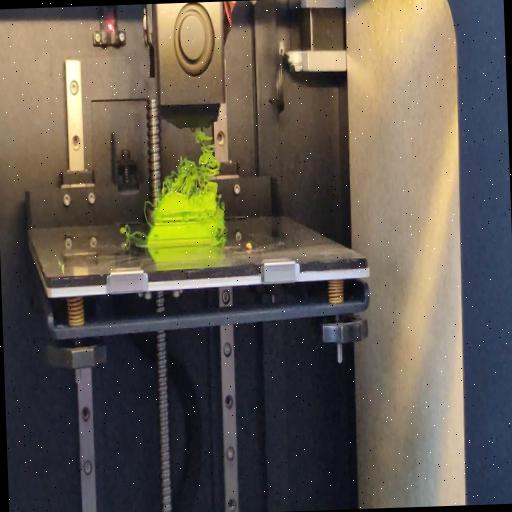spaghetti: (159, 127, 223, 196), (119, 224, 147, 240), (140, 200, 153, 228), (216, 236, 230, 246)
